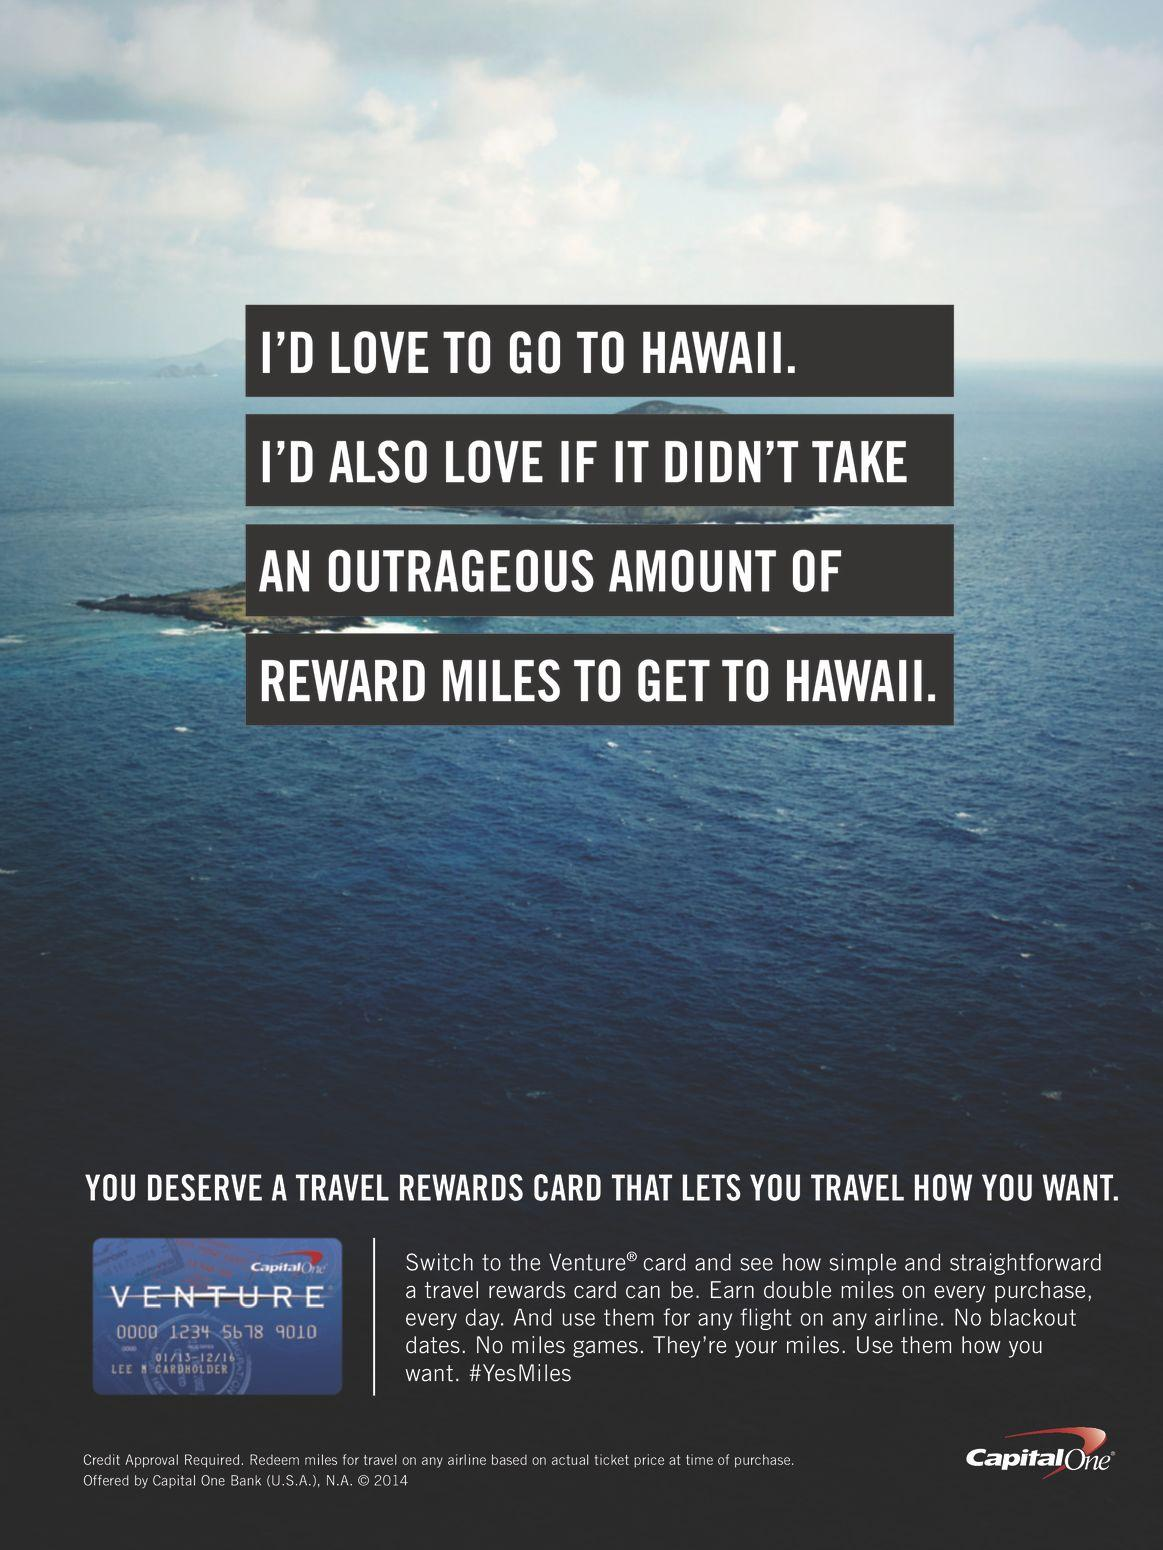paper: (8, 23, 1155, 1481)
